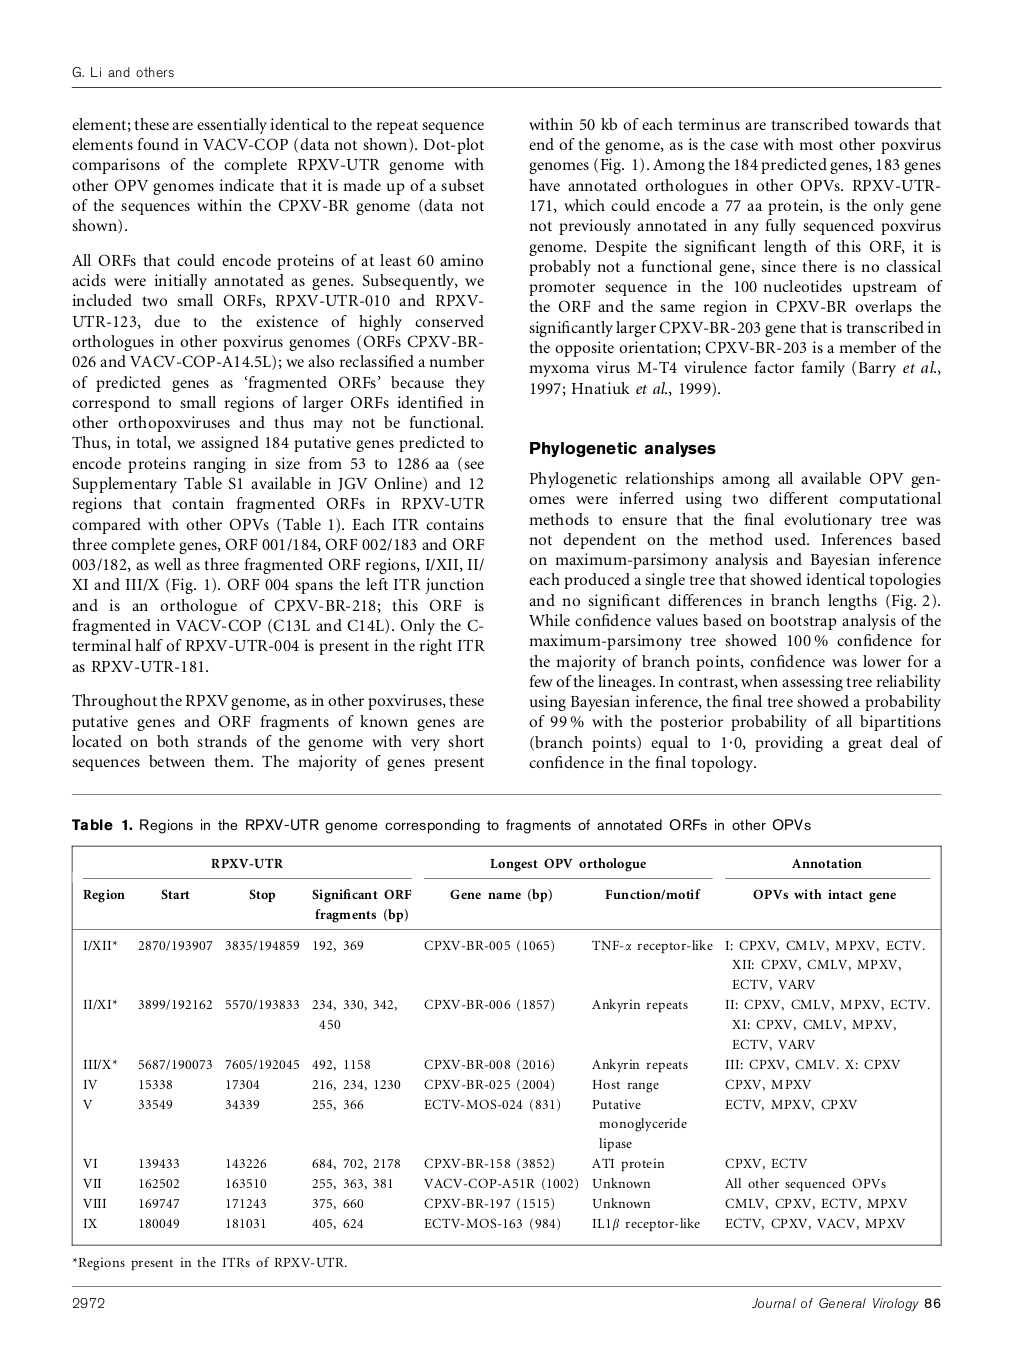Table: (71, 844, 941, 1246)
